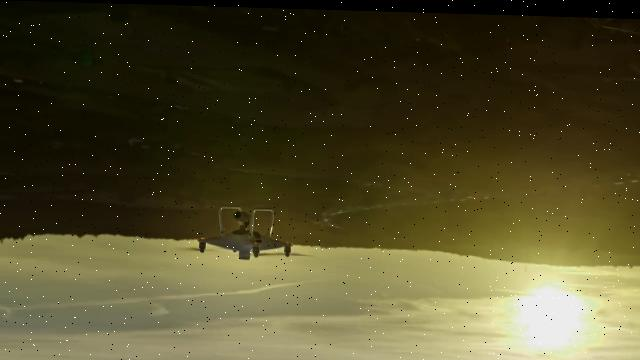drone: (177, 202, 316, 261)
